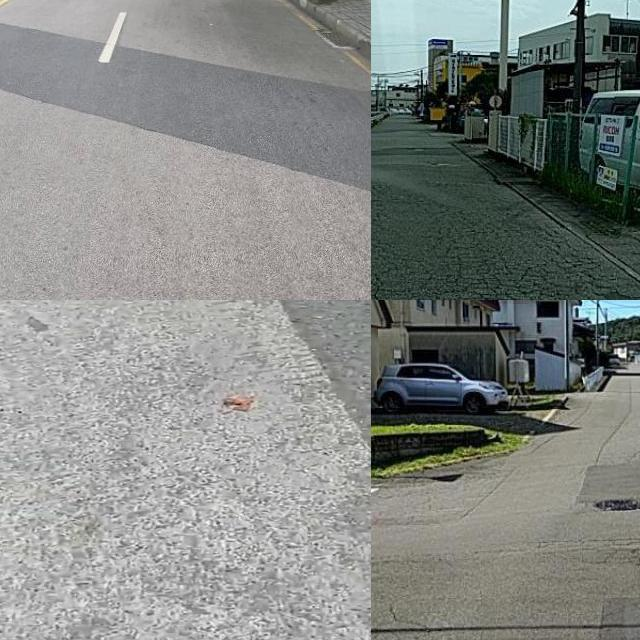Retak Buaya: (371, 214, 625, 300)
Sambungan: (0, 300, 371, 640), (0, 21, 371, 188), (577, 464, 640, 515)
